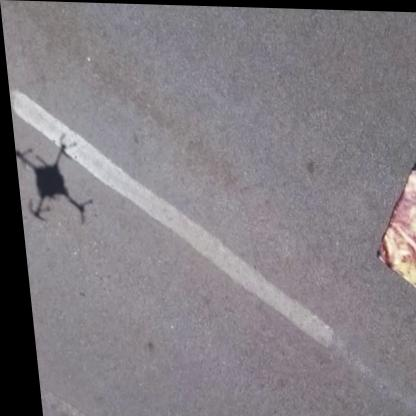fire-poster: (364, 158, 416, 298)
